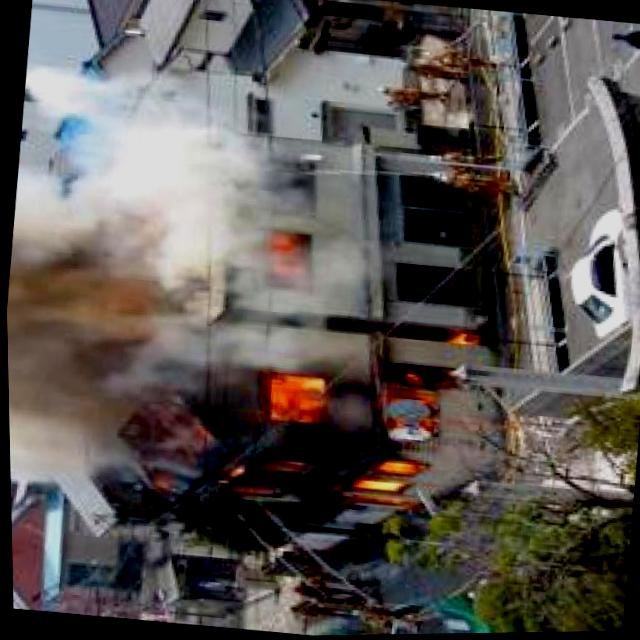helmet: (158, 297, 492, 555)
no_helmet: (0, 0, 203, 502)
